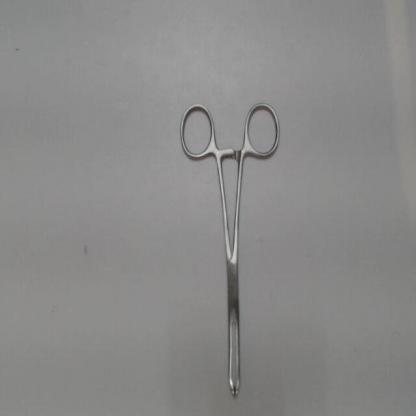Allis Tissue Forceps: (174, 96, 288, 405)
